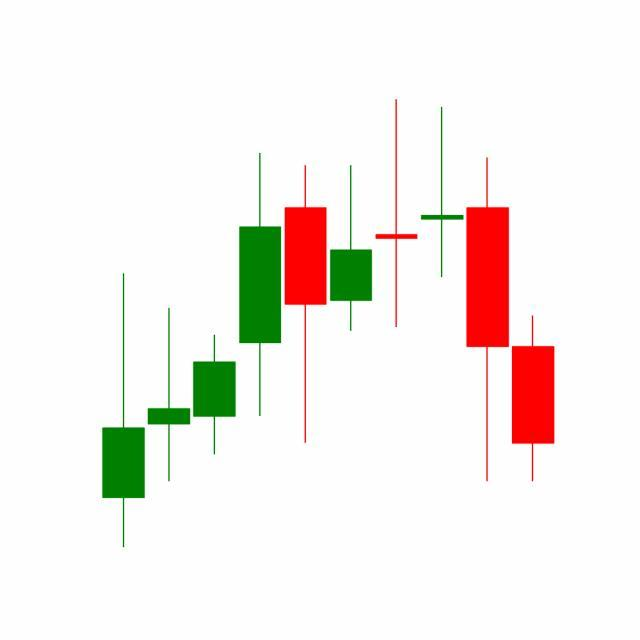Hikkake Pattern: (283, 100, 512, 488)
